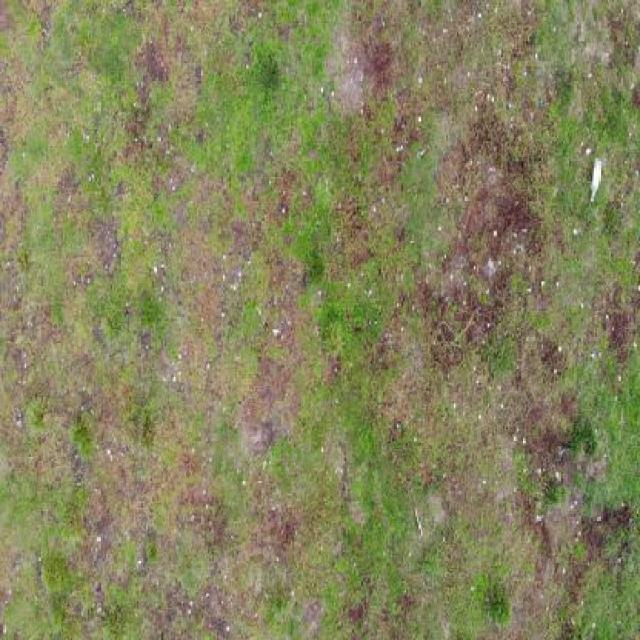Garbage: (590, 157, 602, 202)
